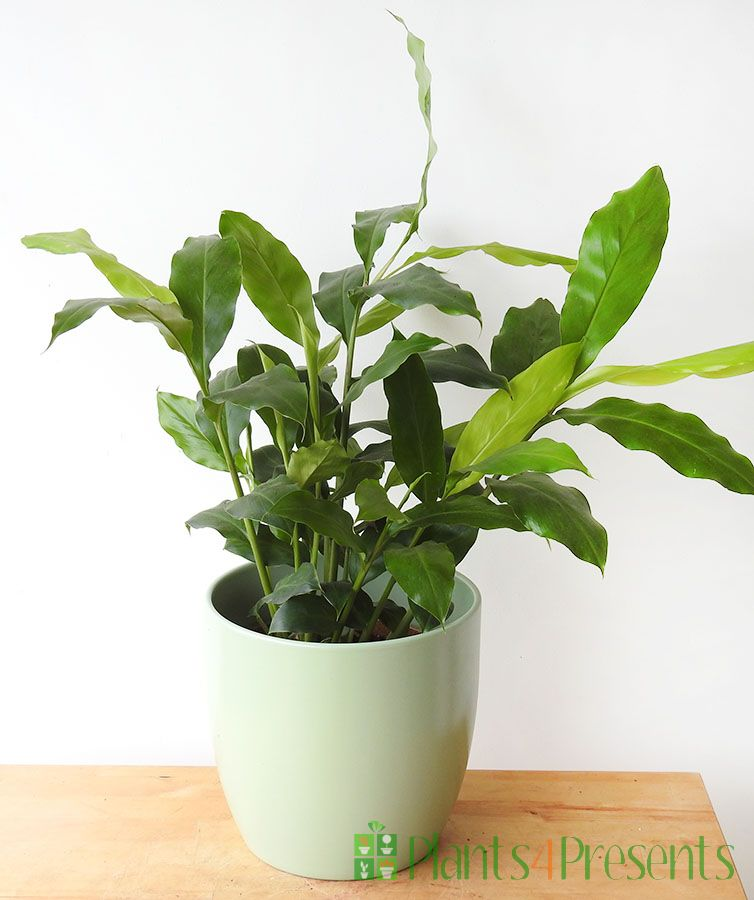plant: (19, 8, 754, 674)
